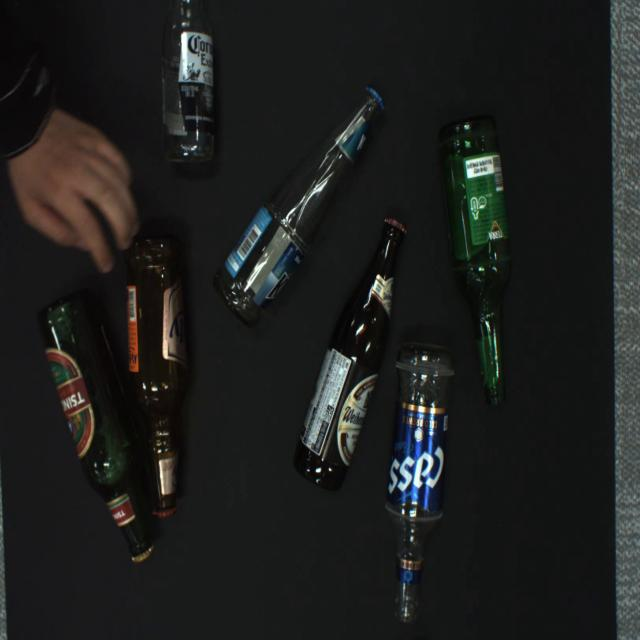beer-bottle: (213, 86, 386, 329), (36, 290, 155, 564), (293, 216, 407, 491), (438, 115, 512, 407), (385, 341, 456, 625), (123, 233, 188, 518), (162, 0, 215, 163)
